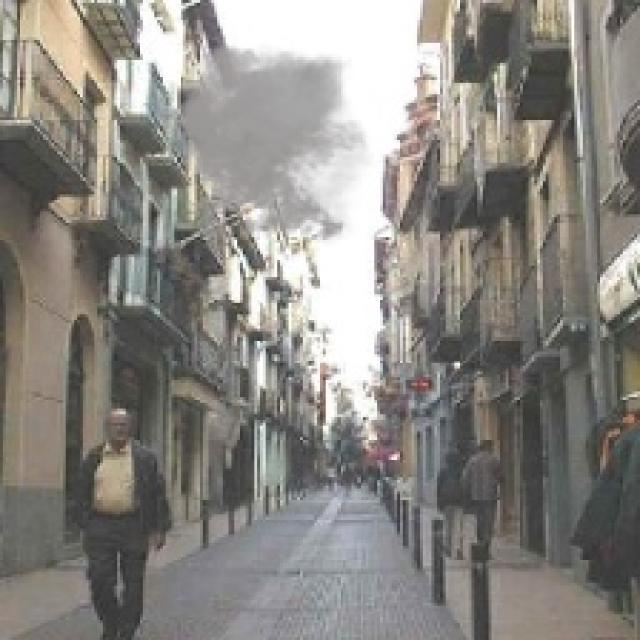Smoke: (166, 37, 380, 249)
